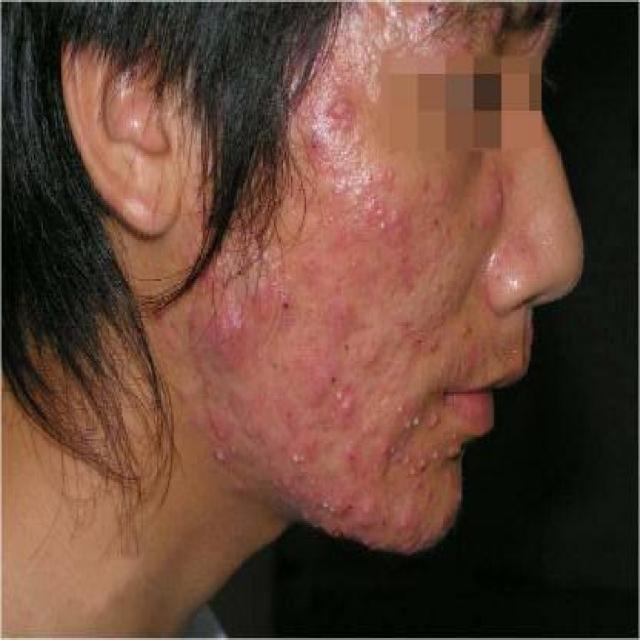blackheads: (268, 289, 302, 328), (294, 127, 328, 164), (422, 199, 449, 242), (316, 361, 356, 390), (402, 322, 436, 355), (460, 205, 488, 242)
nodules: (195, 289, 263, 369)
papules: (317, 80, 363, 137)
pustules: (440, 437, 468, 468), (289, 445, 306, 474), (408, 410, 428, 433), (412, 455, 432, 474), (330, 390, 348, 406), (406, 464, 420, 482), (228, 439, 242, 455), (318, 496, 331, 513), (326, 408, 339, 423), (388, 441, 400, 457), (432, 445, 443, 462), (328, 502, 337, 517)
